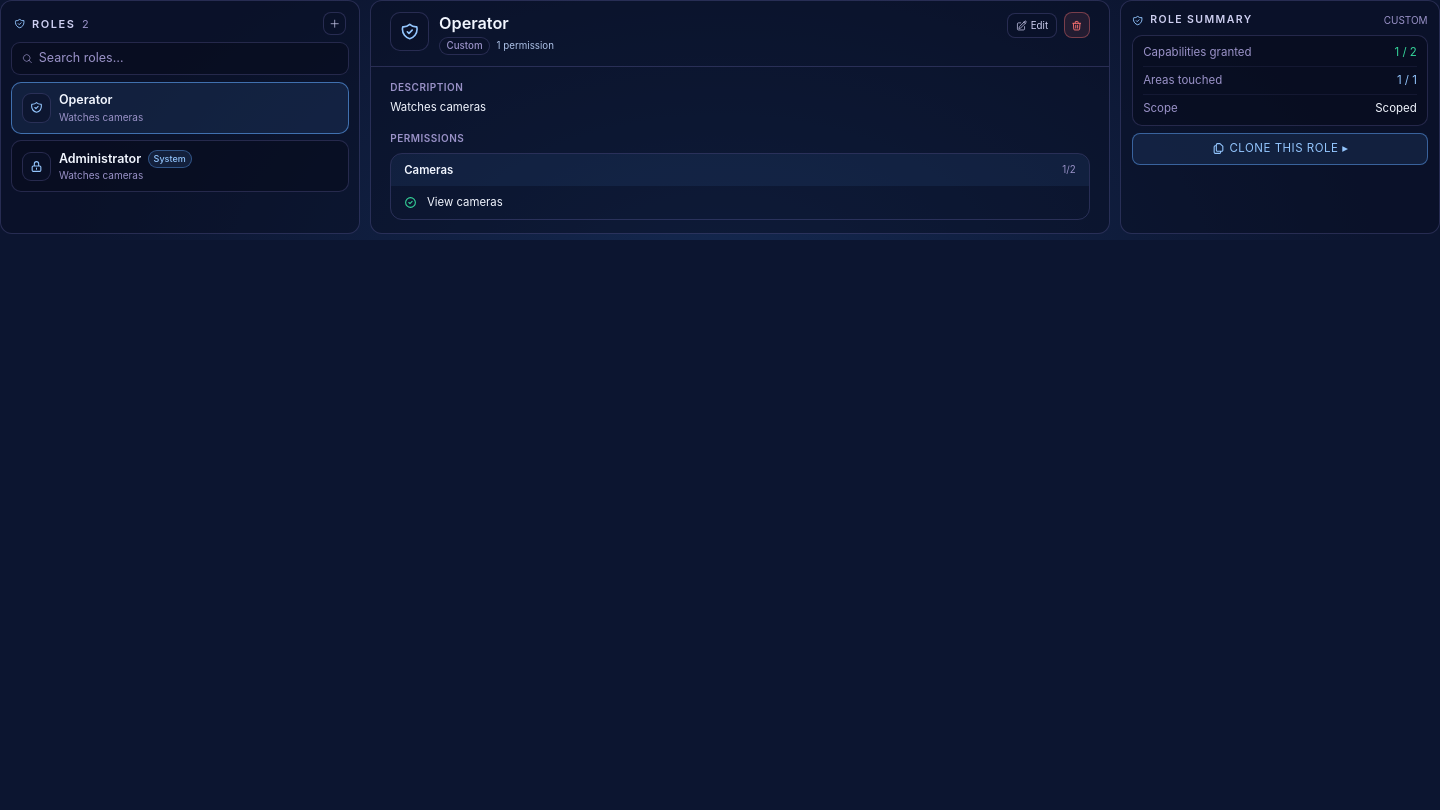
a built-in role › opens read-only, with no way to save a change to it
The image size is (1440, 810).
Click the text "Administrator" at (100, 159), box left=59, top=150, right=141, bottom=168
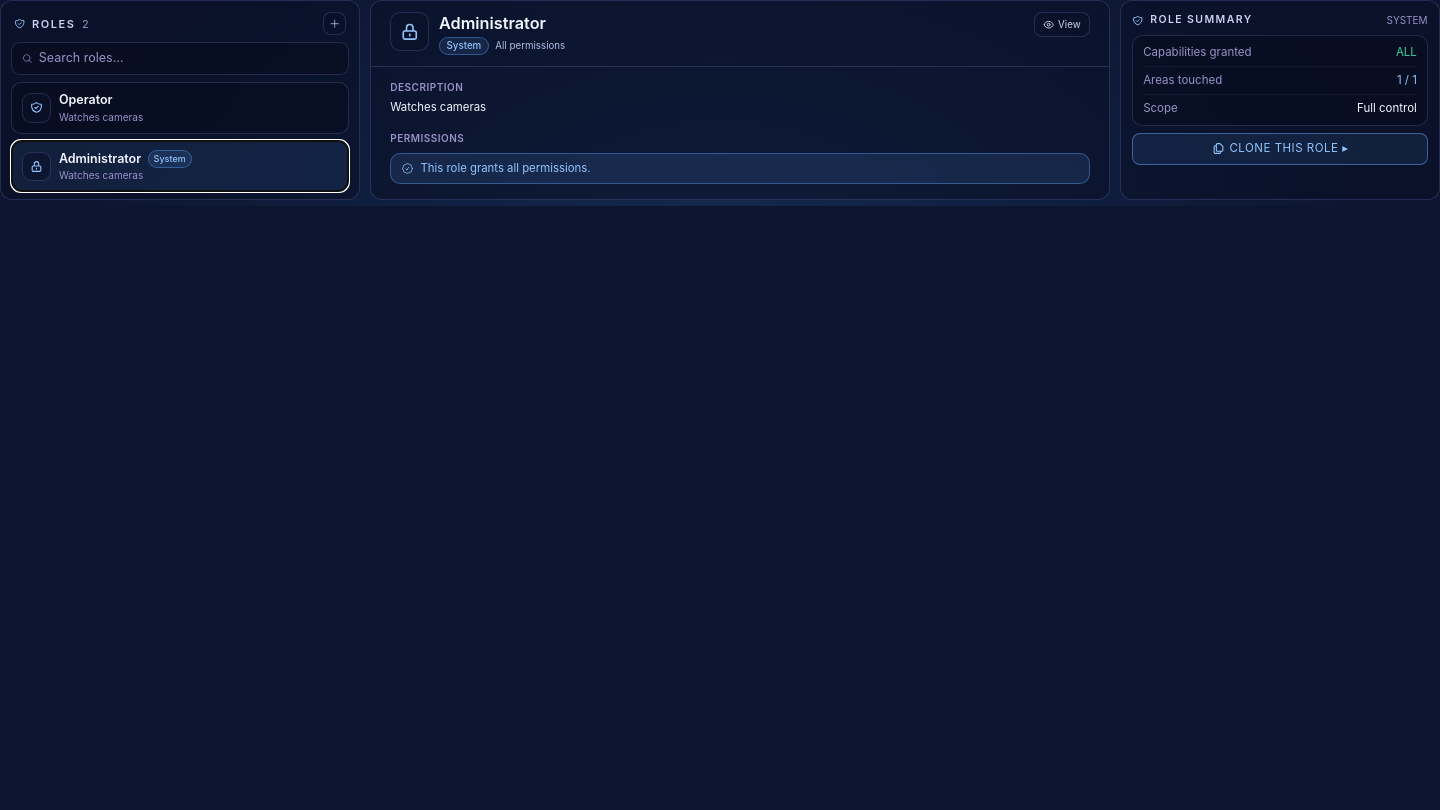
Click the button "View" at (1062, 25), box left=1034, top=12, right=1090, bottom=37
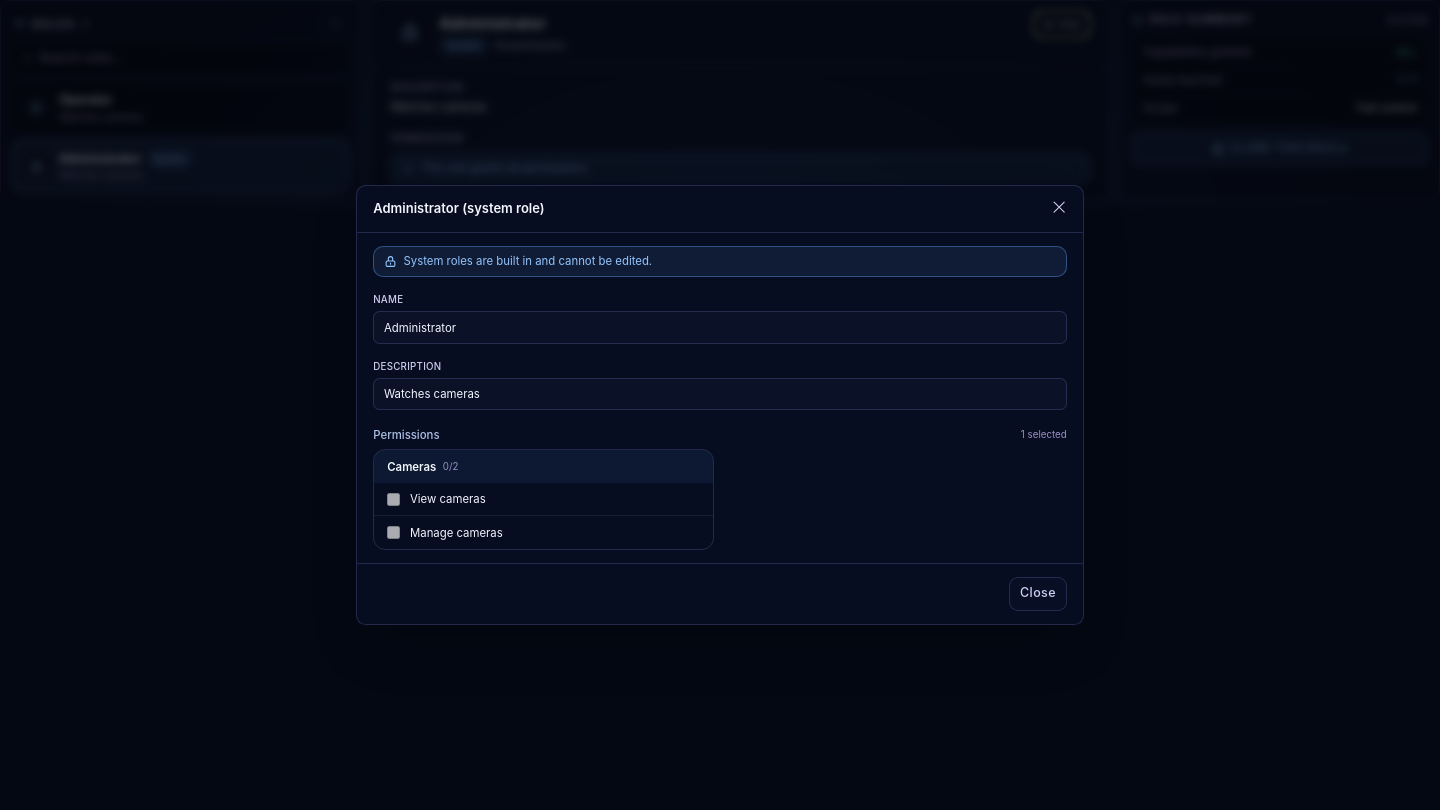
expect the text "System roles are built in and cannot be edited." is shown: met, box left=373, top=246, right=1067, bottom=277
